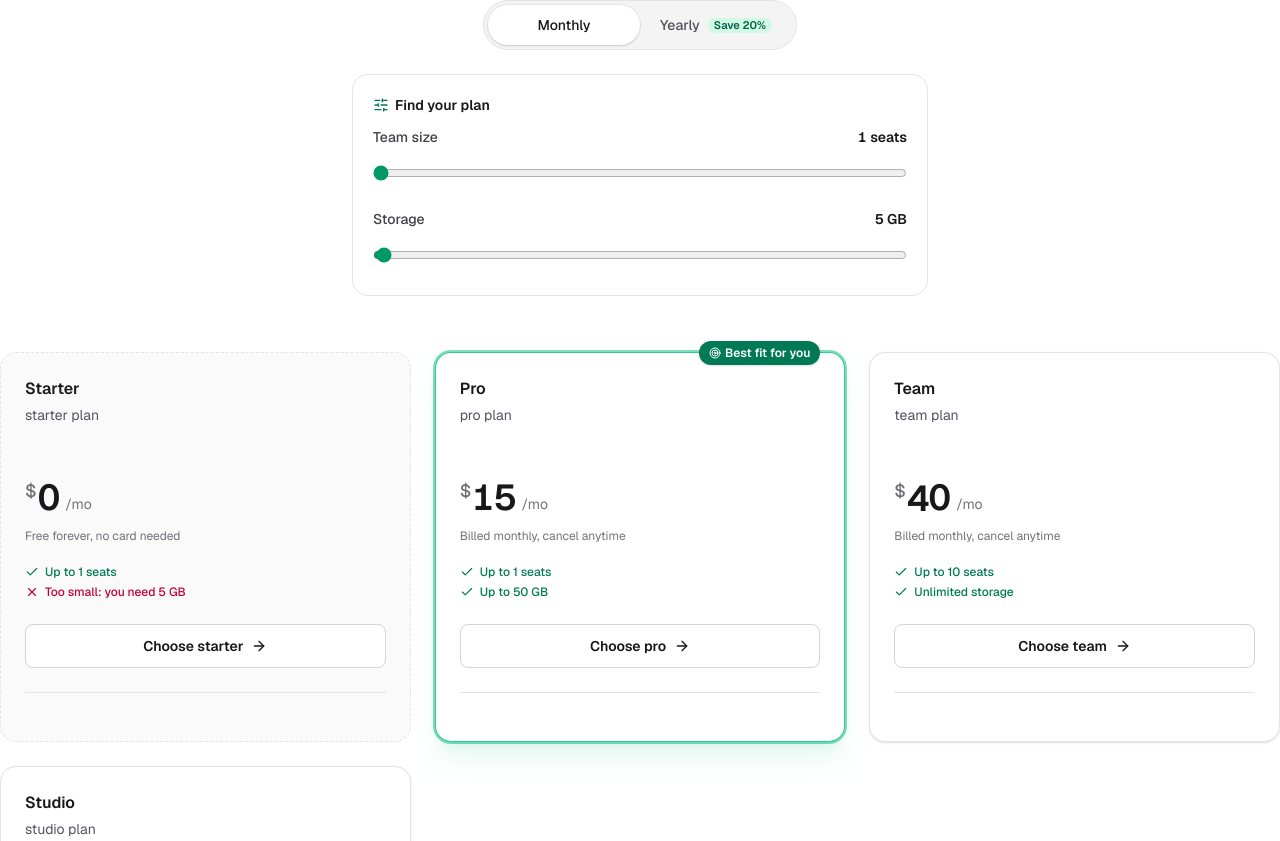
Test: <PricingTable finder /> › says when nothing fits
Set the slider labelled "Team size" to "25" at (810, 173), box top-left (373, 153), bottom-right (907, 193)
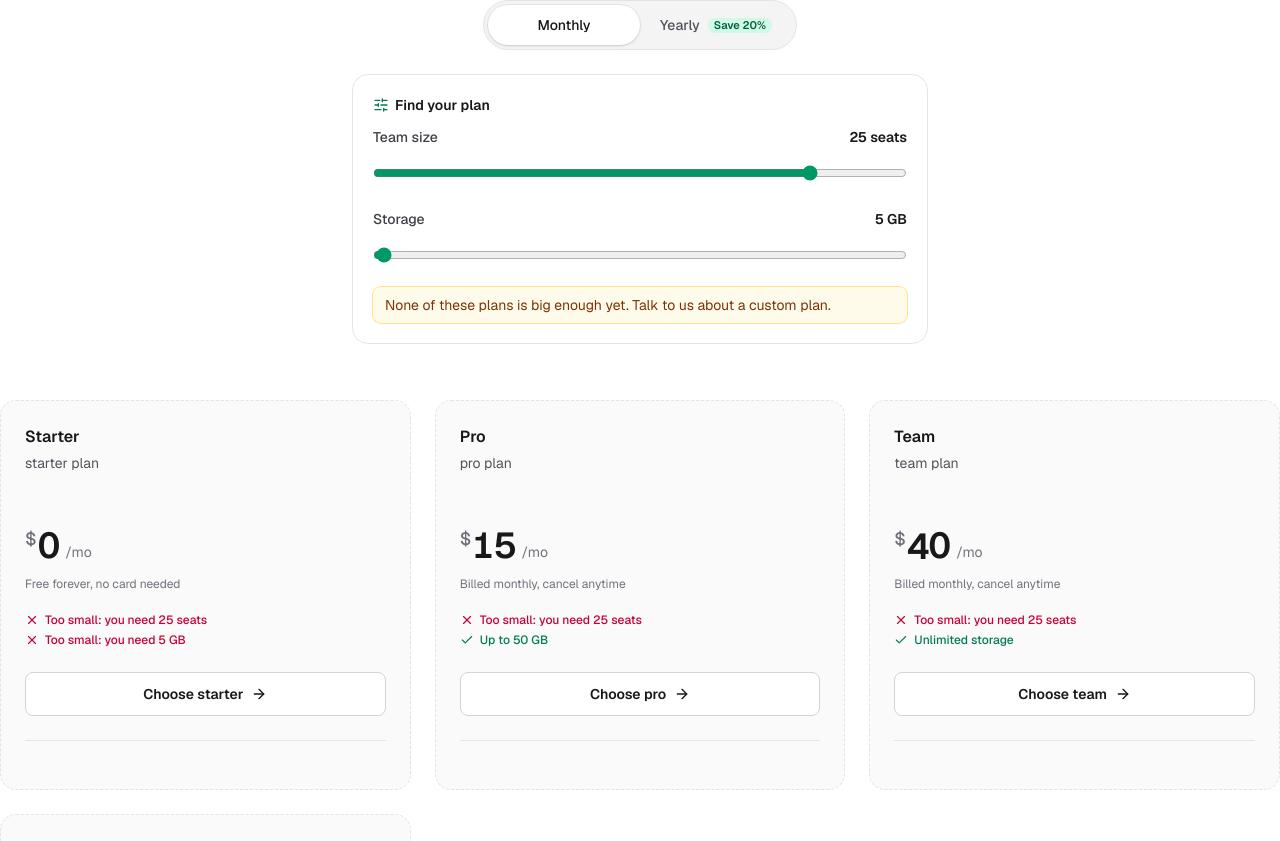
Result: the text "None of these plans is big enough" is shown at top-left (385, 296), bottom-right (831, 314)
Result: the text "Best fit for you" is gone
